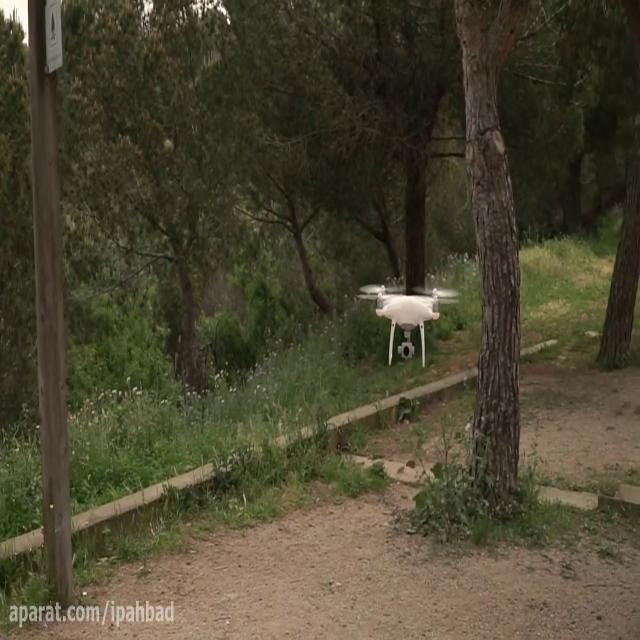drone: (355, 282, 461, 368)
